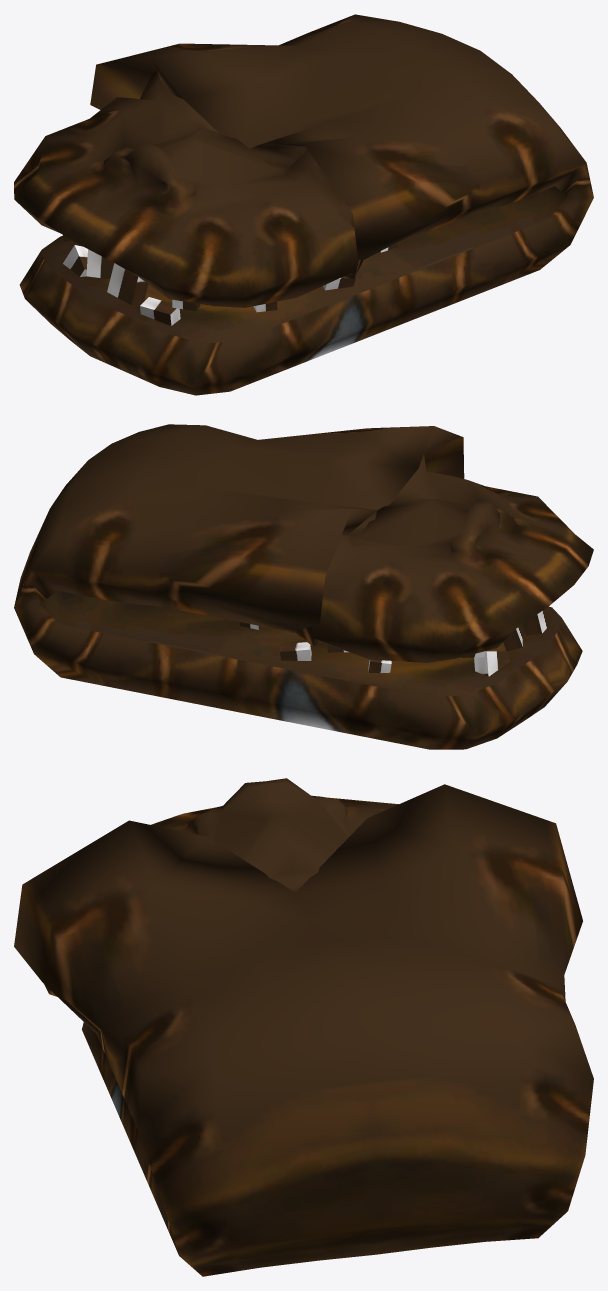
Rendered from WALLET_BIND.obj.
3 renders of one model, top to bottom at view 1: azimuth 30°, elevation 25°; view 2: azimuth 150°, elevation 25°; view 3: azimuth 270°, elevation 25°, orthographic. The views are drawn at different scales.
Visible parts, largest first — view 1: Sphere01; view 2: Sphere01; view 3: Sphere01.
Boxes of the visible parts, bbox=[...] form: Sphere01: bbox=[14, 14, 593, 395]; Sphere01: bbox=[14, 424, 593, 749]; Sphere01: bbox=[14, 778, 593, 1276].
Bounding box in the file's own units: 46.19 × 20.84 × 34.7.
